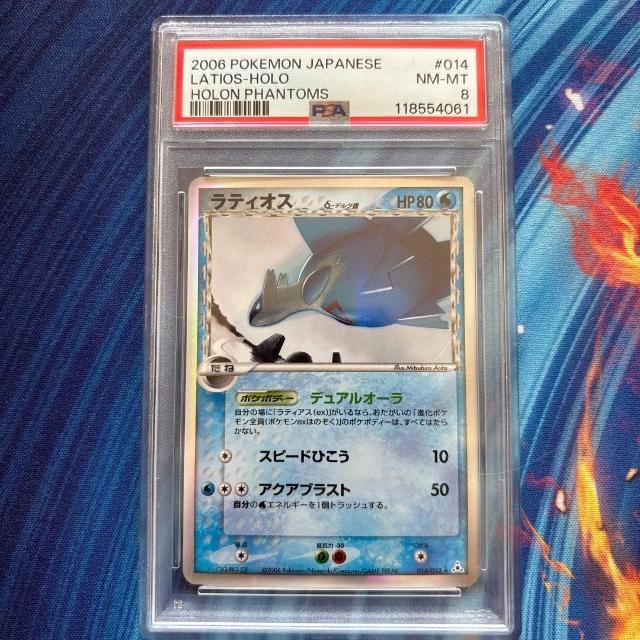Card: (179, 172, 483, 593)
Name: (203, 187, 302, 216)
